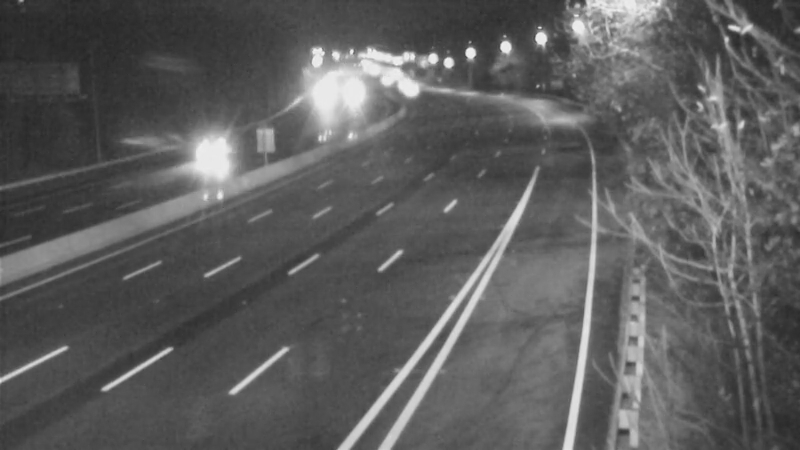vehicle: (173, 116, 253, 196), (358, 55, 408, 105), (375, 62, 425, 112), (382, 62, 432, 112), (298, 73, 348, 123)
